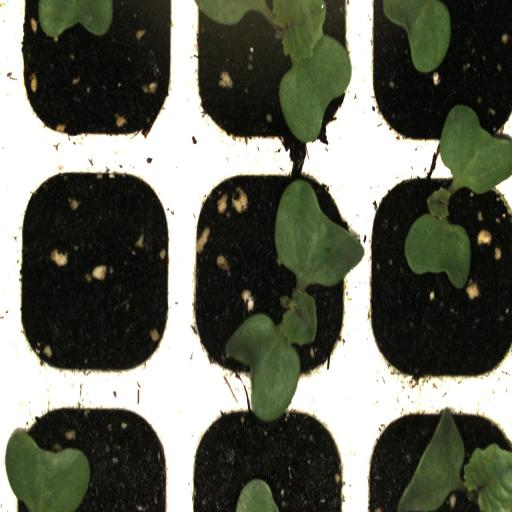noseedling: (8, 155, 178, 384)
seedling: (180, 156, 358, 384), (360, 152, 512, 395), (184, 1, 360, 157)
